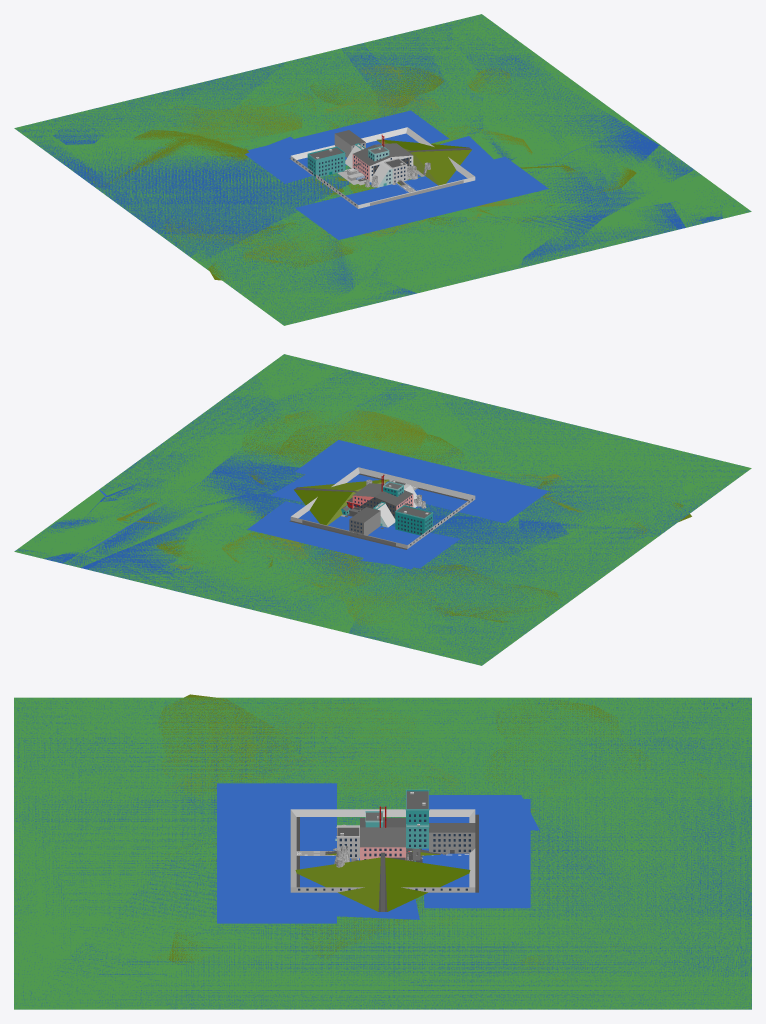
The model's file is suwalki.glb.
3 renders of one model, top to bottom at view 1: azimuth 30°, elevation 25°; view 2: azimuth 150°, elevation 25°; view 3: azimuth 270°, elevation 25°, orthographic. The views are drawn at different scales.
Visible parts, largest first — view 1: suwalki_000_lod0, suwalki_128_lod0, suwalki_149_lod0, suwalki_136_lod0, suwalki_134_lod0, suwalki_129_lod0, suwalki_155_lod0, suwalki_097_lod0_s1v0, suwalki_144_lod0, suwalki_138_lod0, suwalki_147_lod0, suwalki_133_lod0 (+26 smaller); view 2: suwalki_000_lod0, suwalki_128_lod0, suwalki_145_lod0, suwalki_129_lod0, suwalki_133_lod0, suwalki_148_lod0, suwalki_130_lod0, suwalki_136_lod0, suwalki_097_lod0_s1v0, suwalki_134_lod0, suwalki_135_lod0, suwalki_149_lod0 (+24 smaller); view 3: suwalki_000_lod0, suwalki_131_lod0, suwalki_128_lod0, suwalki_147_lod0, suwalki_129_lod0, suwalki_097_lod0_s1v0, suwalki_137_lod0, suwalki_132_lod0, suwalki_150_lod0, suwalki_130_lod0, suwalki_138_lod0, suwalki_095_lod0_s1v0 (+27 smaller).
Boxes of the visible parts, box(x1,y1,x2,y2) form: suwalki_000_lod0: box(15, 14, 750, 325); suwalki_128_lod0: box(16, 14, 750, 325); suwalki_149_lod0: box(33, 25, 746, 319); suwalki_136_lod0: box(17, 16, 745, 324); suwalki_134_lod0: box(43, 16, 745, 320); suwalki_129_lod0: box(16, 15, 747, 325); suwalki_155_lod0: box(43, 24, 673, 311); suwalki_097_lod0_s1v0: box(295, 156, 548, 239); suwalki_144_lod0: box(25, 20, 726, 322); suwalki_138_lod0: box(20, 19, 741, 322); suwalki_147_lod0: box(31, 28, 743, 322); suwalki_133_lod0: box(15, 15, 741, 323); suwalki_000_lod0: box(14, 354, 751, 665); suwalki_128_lod0: box(15, 355, 751, 665); suwalki_145_lod0: box(22, 365, 726, 656); suwalki_129_lod0: box(18, 354, 750, 664); suwalki_133_lod0: box(16, 356, 748, 662); suwalki_148_lod0: box(37, 359, 732, 652); suwalki_130_lod0: box(18, 356, 750, 664); suwalki_136_lod0: box(34, 355, 748, 663); suwalki_097_lod0_s1v0: box(295, 440, 548, 522); suwalki_134_lod0: box(32, 359, 737, 583); suwalki_135_lod0: box(18, 359, 744, 664); suwalki_149_lod0: box(103, 355, 727, 657); suwalki_000_lod0: box(14, 697, 751, 1009); suwalki_131_lod0: box(14, 698, 751, 1009); suwalki_128_lod0: box(14, 697, 751, 1009); suwalki_147_lod0: box(22, 698, 751, 1009); suwalki_129_lod0: box(14, 698, 751, 1009); suwalki_097_lod0_s1v0: box(217, 783, 336, 923); suwalki_137_lod0: box(14, 698, 751, 1009); suwalki_132_lod0: box(14, 698, 751, 1008); suwalki_150_lod0: box(19, 701, 751, 1007); suwalki_130_lod0: box(14, 697, 751, 1009); suwalki_138_lod0: box(14, 698, 751, 1009); suwalki_095_lod0_s1v0: box(340, 799, 530, 908).
Size of what is drawn, in the model's own units: 4139 by 290 by 4096.
